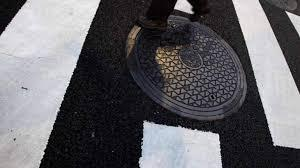closed manhole-not overflowing-: (124, 10, 248, 120)
